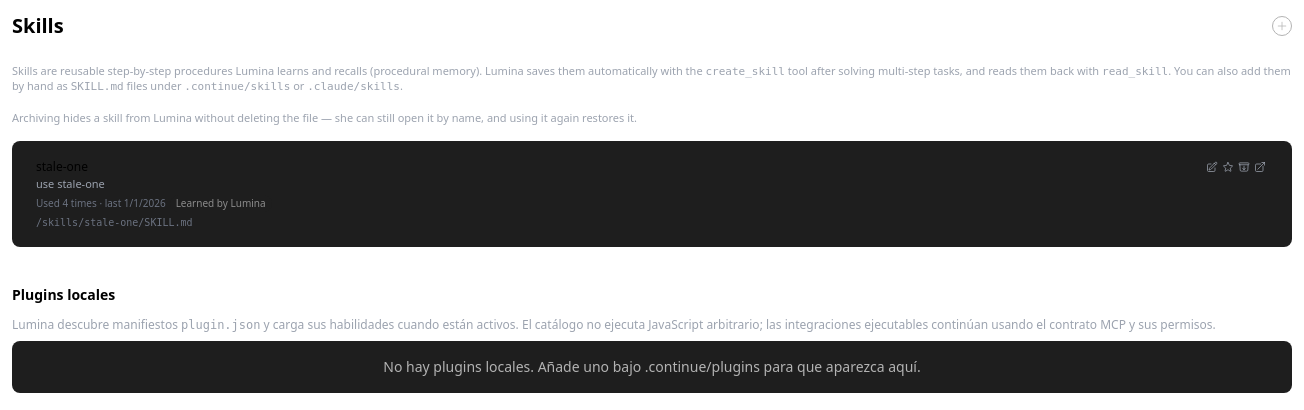
Test: SkillsSection › archives a skill and renders what core sent back
The width and height of the screenshot is (1304, 410).
Expected: the element with test id "skill-card-stale-one" is shown, [28, 153, 1276, 235]
Click the button with test id "skill-archive-stale-one".
click(1244, 167)  # box [1236, 159, 1252, 175]
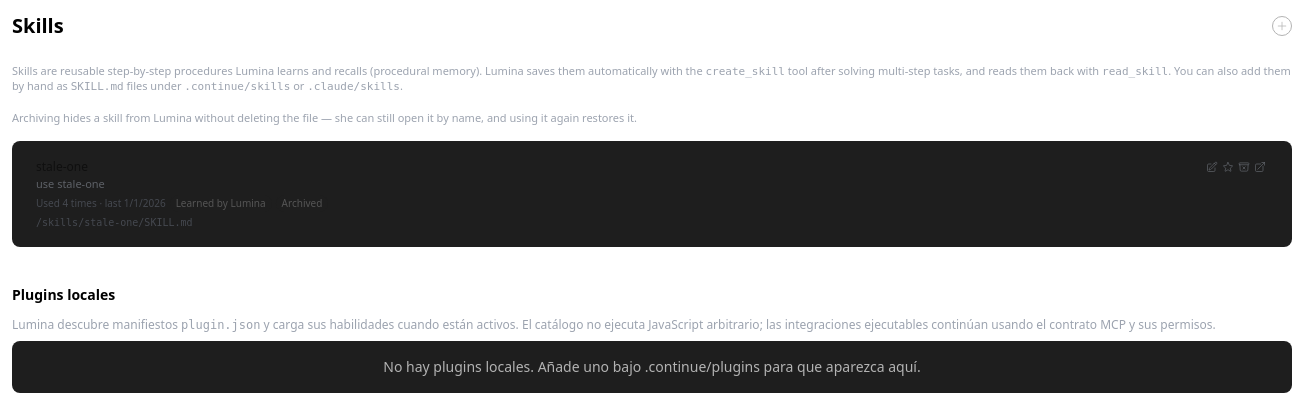
Expected: the text "Archived" is shown, [276, 195, 328, 212]
